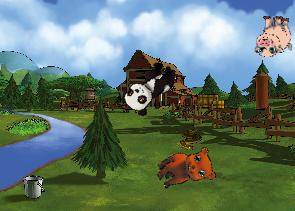bear: (151, 139, 221, 202)
panda: (118, 54, 181, 120)
pig: (253, 14, 293, 57)
